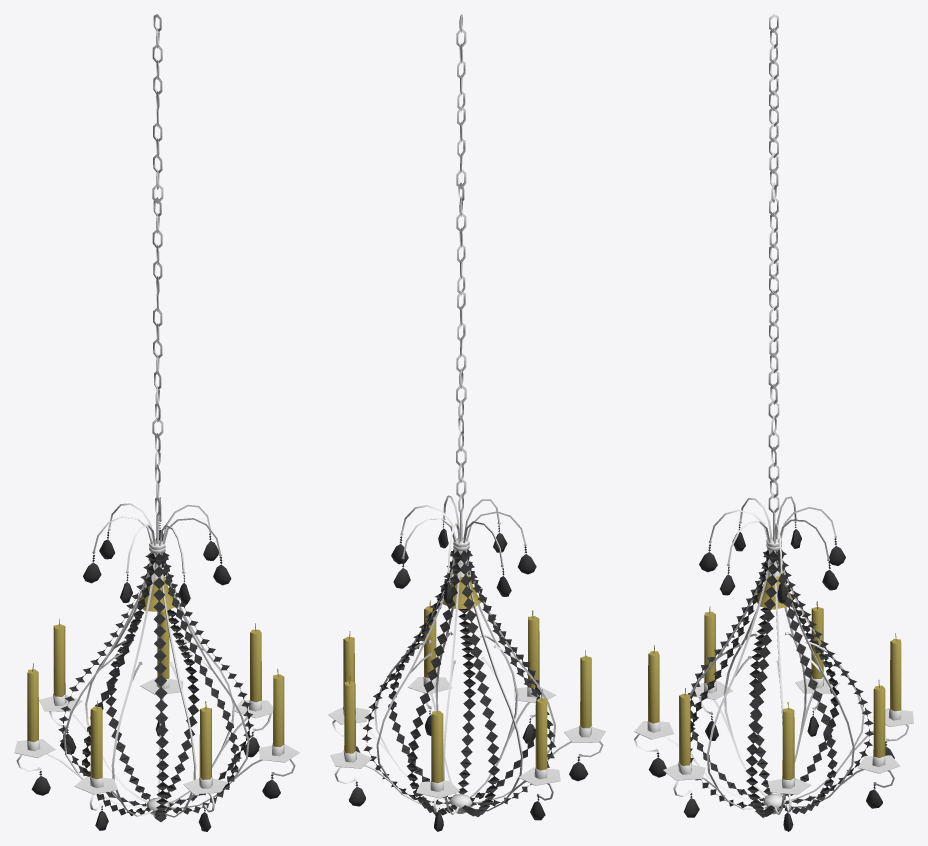
File: KristallerChandelier7armed.FBX
The picture shows the model from 3 angles, left to right: view 1: azimuth 30°, elevation 25°; view 2: azimuth 150°, elevation 25°; view 3: azimuth 270°, elevation 25°; orthographic projection.
Parts seen in each view (by area): view 1: KristallerChandelier7armed; view 2: KristallerChandelier7armed; view 3: KristallerChandelier7armed.
Part boxes in pixels (box(x1,y1,x2,y2)): KristallerChandelier7armed: box(14, 14, 299, 831); KristallerChandelier7armed: box(328, 14, 605, 831); KristallerChandelier7armed: box(634, 14, 913, 831).
Size of the model in its own units: 66 by 66 by 208.
